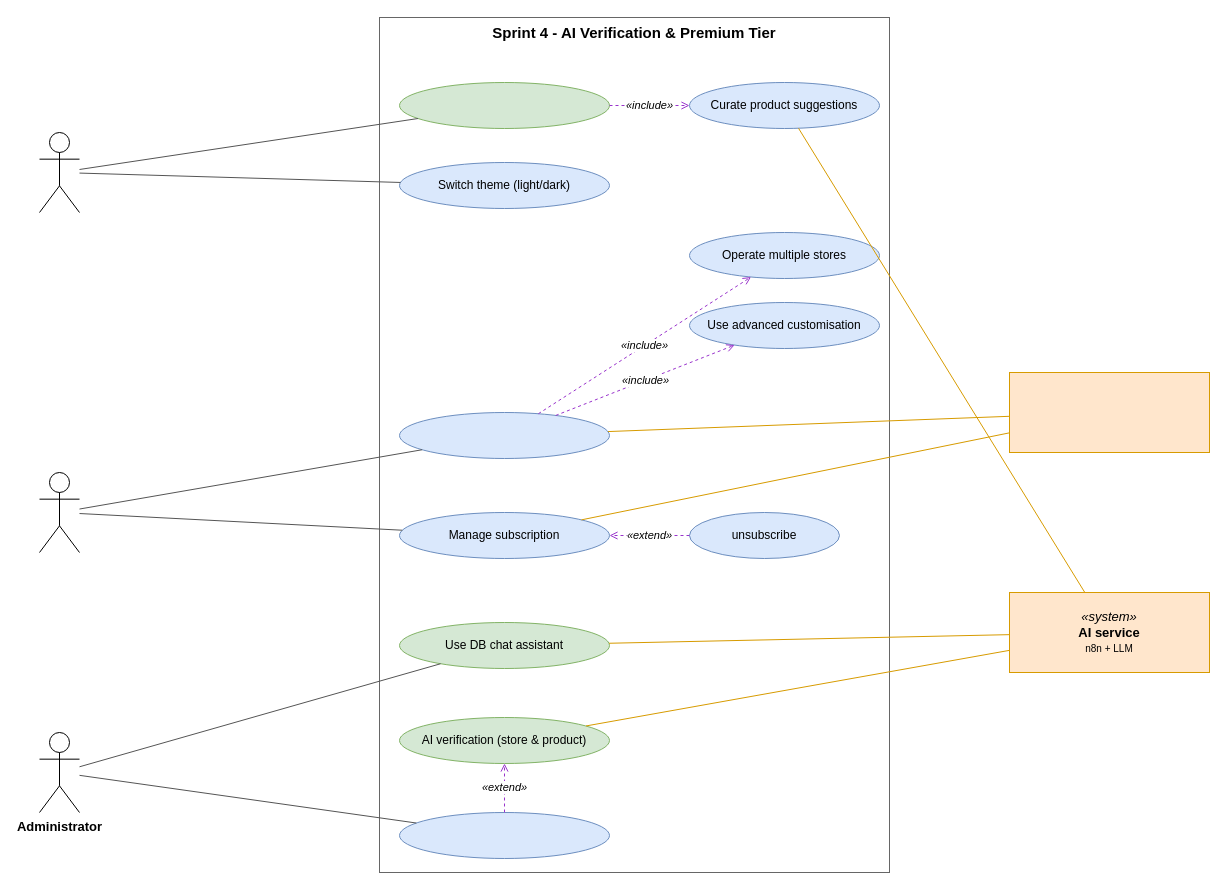
This 1227x890 diagram has some shape labels left out. The box of each missing label's shape, as (x1, y1, x2, y2) in pixels:
Customer: (38, 132, 80, 212)
Override AI verdict: (398, 812, 610, 858)
Seller: (38, 472, 80, 552)
Subscribe to premium: (398, 412, 610, 458)
View product suggestions: (398, 82, 610, 128)
«system» Stripe premium subscription: (1008, 372, 1210, 452)
